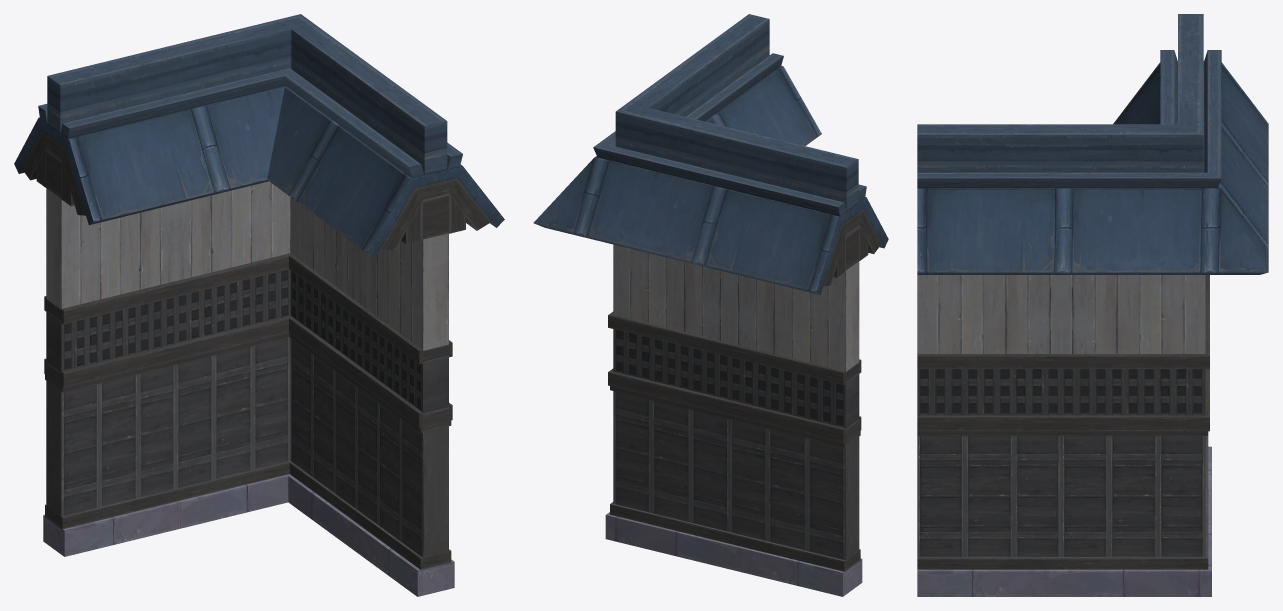
The model's file is Homeworld_Exterior_Dq_Build_Wall_04_Vo.fbx.
3 renders of one model, left to right at view 1: azimuth 30°, elevation 25°; view 2: azimuth 150°, elevation 25°; view 3: azimuth 270°, elevation 25°, orthographic. The views are drawn at different scales.
Visible parts, largest first — view 1: Homeworld_Exterior_Dq_Build_Wall_04_Vo; view 2: Homeworld_Exterior_Dq_Build_Wall_04_Vo; view 3: Homeworld_Exterior_Dq_Build_Wall_04_Vo.
Boxes of the visible parts, left/top/right/bottom form: Homeworld_Exterior_Dq_Build_Wall_04_Vo: left=14, top=14, right=504, bottom=596; Homeworld_Exterior_Dq_Build_Wall_04_Vo: left=533, top=14, right=888, bottom=596; Homeworld_Exterior_Dq_Build_Wall_04_Vo: left=917, top=14, right=1268, bottom=596.
Bounding box in the file's own units: 3.21 × 4.62 × 3.21.
